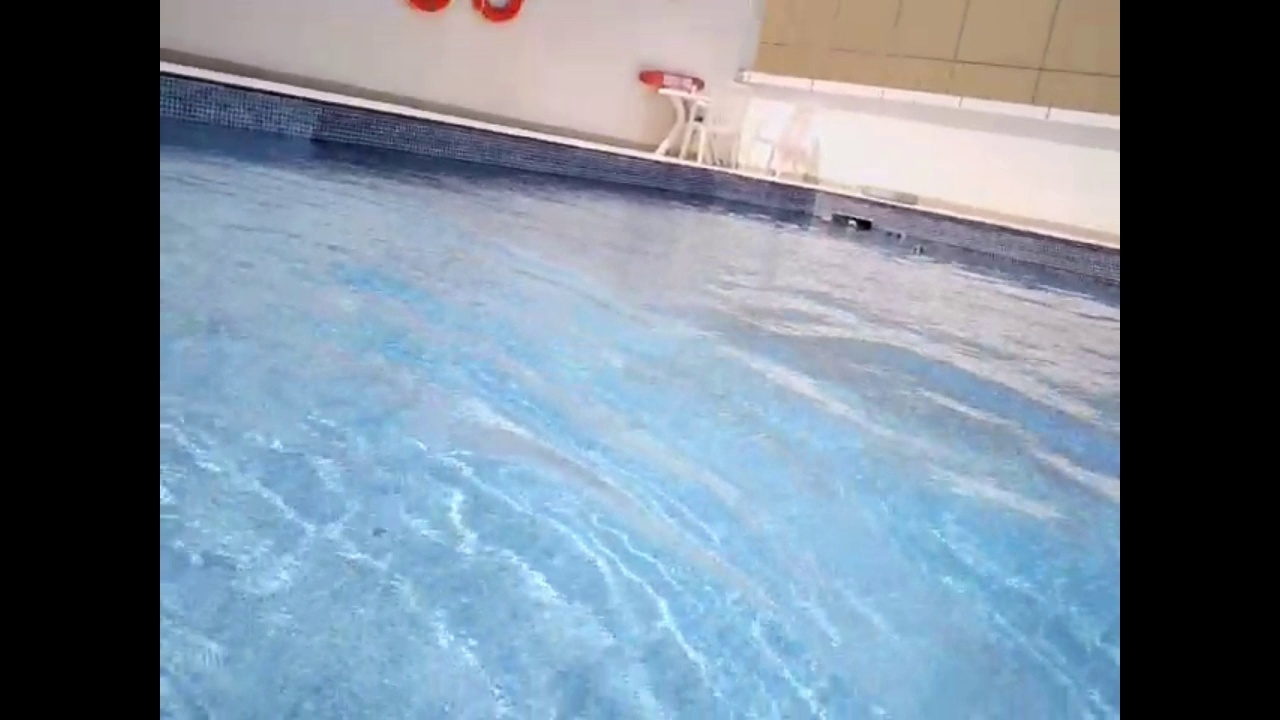debris: (907, 239, 930, 257), (844, 217, 858, 231), (894, 228, 906, 244), (882, 227, 896, 240)
